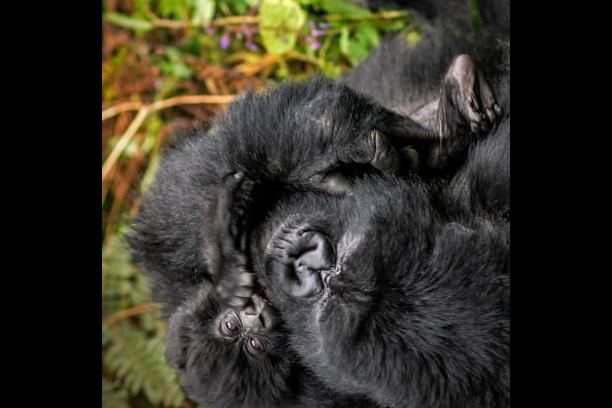goriile_montagne: (269, 0, 510, 408), (149, 140, 278, 404)
